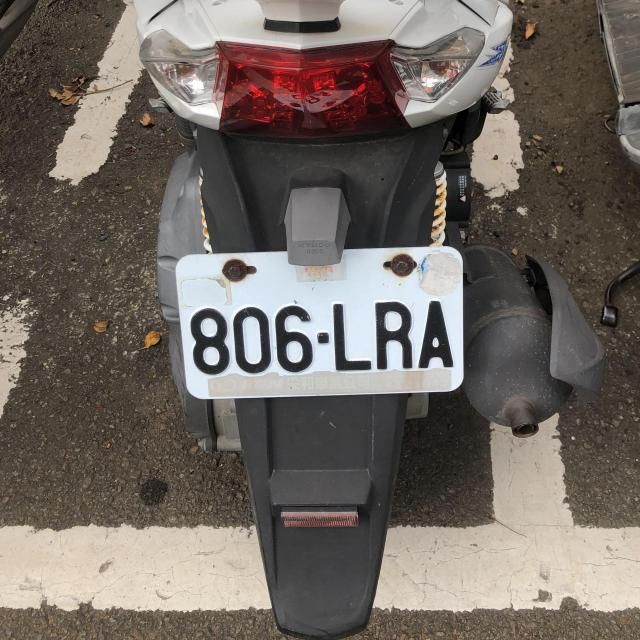W: (172, 245, 462, 397)
